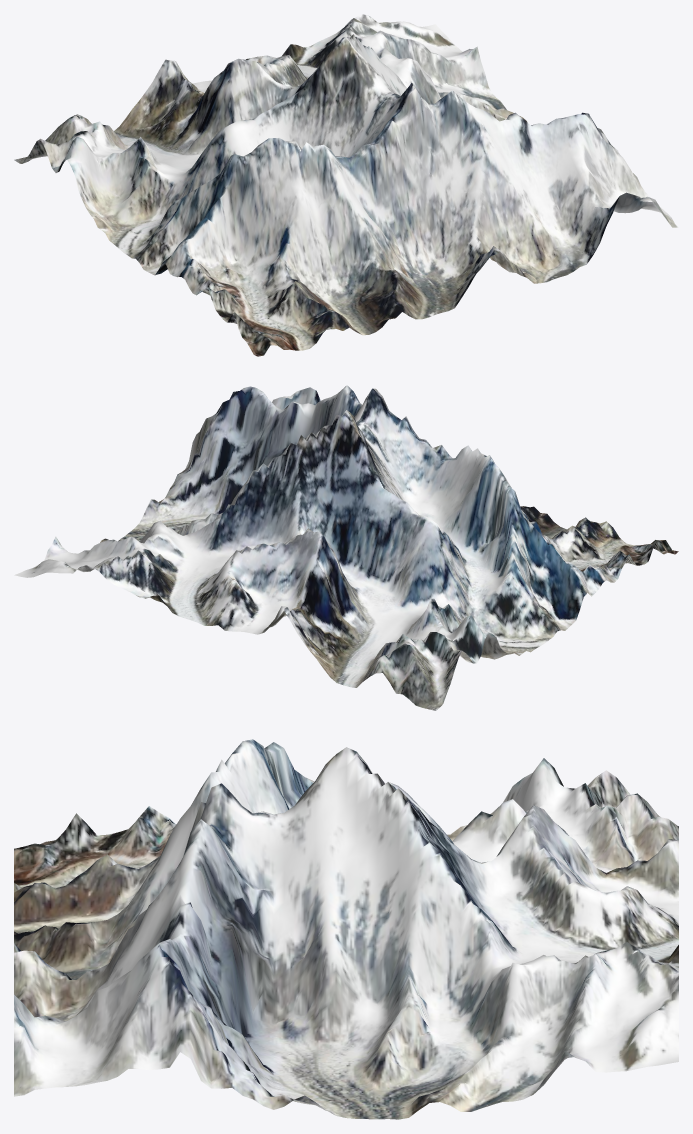
Rendered from everest.glb.
3 renders of one model, top to bottom at view 1: azimuth 30°, elevation 25°; view 2: azimuth 150°, elevation 25°; view 3: azimuth 270°, elevation 25°, orthographic. The views are drawn at different scales.
Visible parts, largest first — view 1: EXPORT_GOOGLE_SAT_WM; view 2: EXPORT_GOOGLE_SAT_WM; view 3: EXPORT_GOOGLE_SAT_WM.
Part boxes in pixels (left/top/right/bottom): EXPORT_GOOGLE_SAT_WM: left=14, top=14, right=678, bottom=356; EXPORT_GOOGLE_SAT_WM: left=14, top=385, right=678, bottom=710; EXPORT_GOOGLE_SAT_WM: left=14, top=739, right=678, bottom=1119.
Bounding box in the file's own units: 15011 × 6279 × 15011.
Materials: 1 (1 with a texture image).
